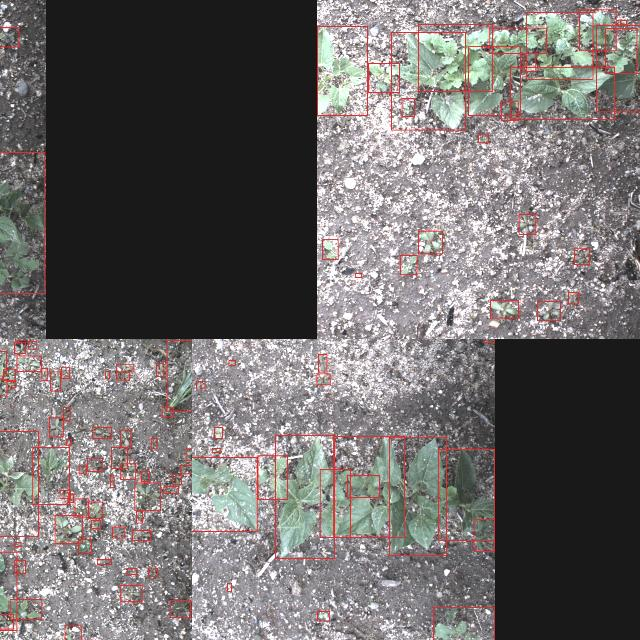crop: (390, 31, 466, 129), (274, 434, 334, 558), (334, 436, 404, 536), (389, 436, 446, 554), (0, 151, 45, 293), (510, 66, 614, 118), (438, 448, 494, 540), (192, 457, 256, 531), (316, 26, 366, 114), (0, 430, 38, 535), (596, 24, 640, 111), (468, 46, 520, 114), (32, 446, 68, 504)
weed: (418, 24, 492, 90), (526, 12, 592, 78), (433, 606, 494, 640), (320, 469, 350, 537), (166, 339, 192, 410), (578, 10, 616, 50), (488, 27, 546, 53), (606, 28, 636, 72), (257, 455, 287, 499), (0, 551, 16, 629), (368, 62, 398, 92), (54, 515, 82, 543), (134, 482, 160, 510), (347, 475, 379, 497), (9, 599, 41, 619), (474, 519, 494, 551), (418, 230, 442, 253), (490, 300, 518, 318), (536, 300, 560, 320), (15, 355, 40, 371), (120, 584, 142, 602), (0, 26, 19, 46), (518, 213, 536, 233), (500, 100, 518, 120), (170, 599, 190, 617), (399, 254, 416, 274), (111, 447, 127, 468), (322, 239, 336, 259), (49, 418, 63, 437), (120, 463, 136, 479), (64, 625, 81, 640), (74, 498, 88, 516), (574, 248, 588, 264), (88, 502, 102, 518), (401, 98, 413, 116), (523, 53, 535, 71), (92, 427, 110, 438), (86, 458, 102, 470), (50, 372, 60, 391), (132, 530, 150, 540), (120, 429, 130, 447), (0, 613, 12, 628), (78, 538, 90, 552), (318, 353, 327, 371), (112, 526, 124, 538), (116, 363, 134, 371), (13, 560, 24, 572), (3, 368, 15, 379), (316, 374, 329, 384), (0, 350, 5, 375), (316, 610, 328, 620), (156, 362, 164, 376), (13, 342, 24, 352), (180, 464, 192, 473), (115, 371, 128, 379), (568, 292, 578, 302), (162, 406, 172, 416), (60, 367, 70, 377), (0, 379, 6, 395), (213, 427, 221, 438), (97, 558, 111, 564), (164, 486, 178, 492), (185, 448, 192, 460), (478, 134, 488, 142), (148, 567, 158, 575), (141, 471, 149, 481), (60, 490, 70, 498), (90, 520, 100, 528), (172, 473, 180, 483), (63, 406, 69, 419), (136, 510, 142, 522), (41, 368, 47, 380), (78, 465, 86, 473), (28, 340, 36, 348), (6, 380, 14, 388), (151, 438, 157, 448), (126, 568, 136, 574), (110, 475, 114, 487), (196, 381, 204, 387), (68, 492, 72, 502), (210, 448, 220, 452), (355, 272, 361, 278), (105, 370, 109, 378), (226, 583, 230, 591), (620, 20, 626, 24), (14, 542, 20, 546), (66, 438, 70, 444), (228, 360, 234, 364), (484, 339, 494, 341), (15, 339, 25, 340)
